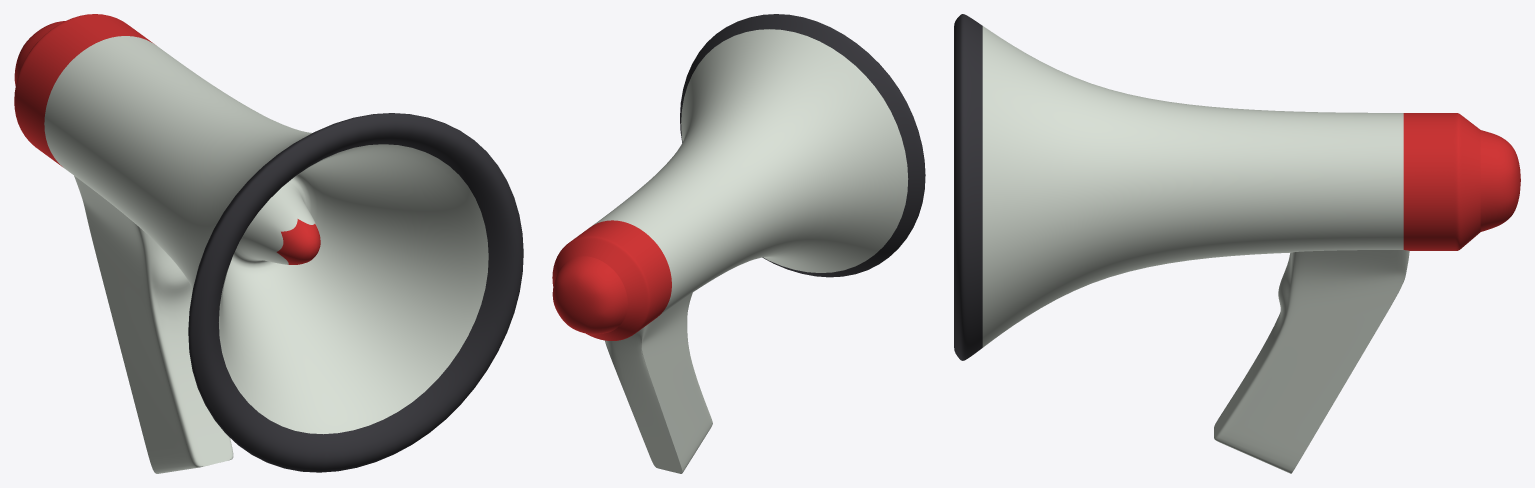
File: megaphone.fbx
The picture shows the model from 3 angles, left to right: view 1: azimuth 30°, elevation 25°; view 2: azimuth 150°, elevation 25°; view 3: azimuth 270°, elevation 25°; orthographic projection. The views are drawn at different scales.
Visible parts, largest first — view 1: megaphone; view 2: megaphone; view 3: megaphone.
Part boxes in pixels (bbox=[...]): megaphone: bbox=[14, 14, 523, 473]; megaphone: bbox=[552, 14, 925, 473]; megaphone: bbox=[954, 14, 1520, 473].
Size of the model in its own units: 22.63 by 31.45 by 36.99.
